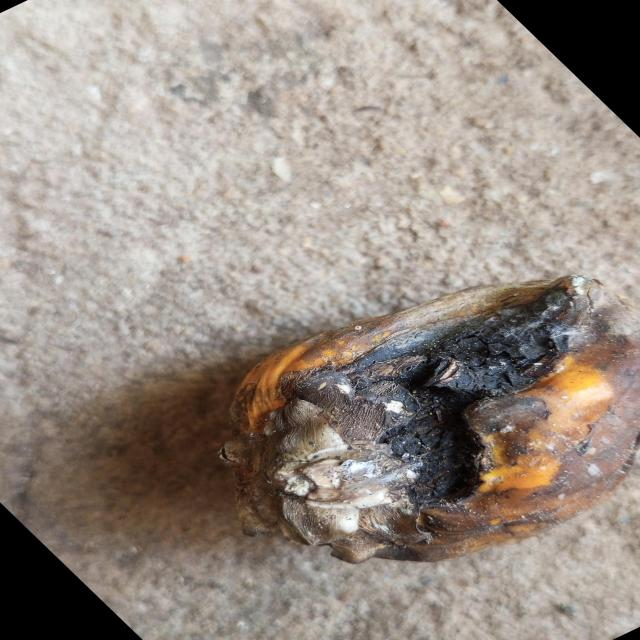damaged: (220, 276, 640, 563)
